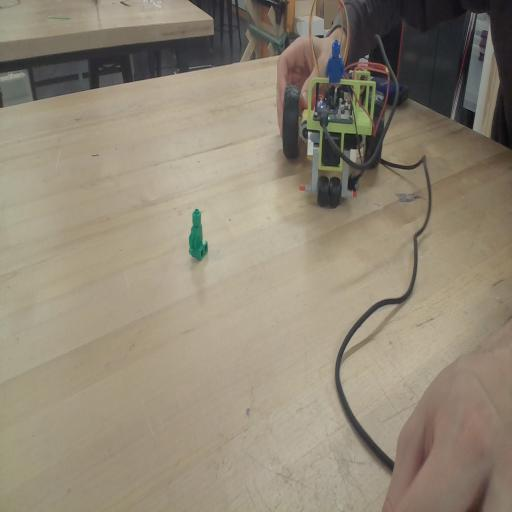blue LEGO minifig: (325, 35, 345, 88)
green LEGO minifig: (189, 204, 207, 265)
